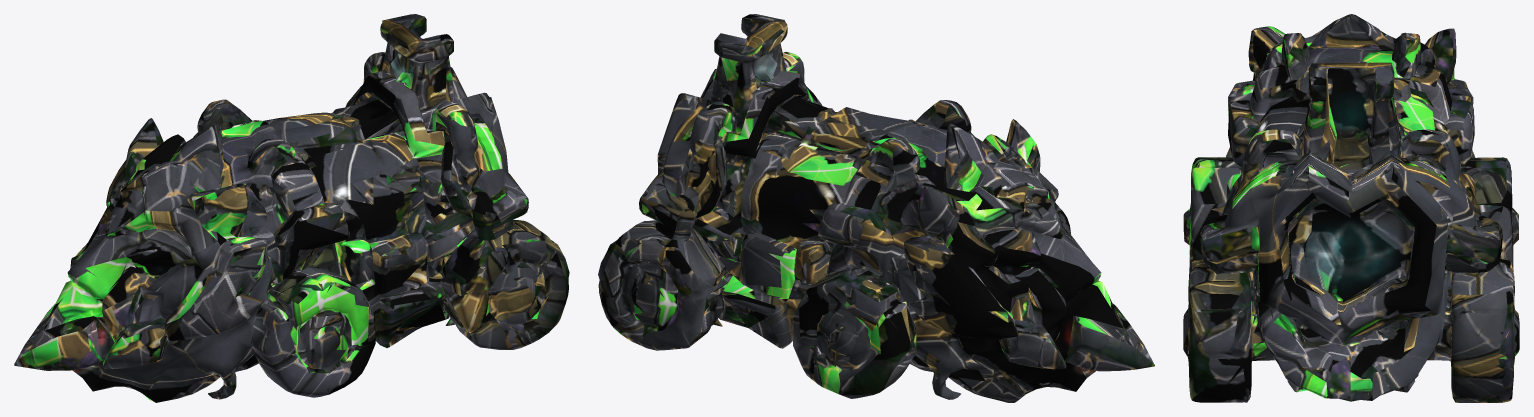
File: siege_meshy_beast_hybrid_blend_0725021332_prepared.fbx
The picture shows the model from 3 angles, left to right: view 1: azimuth 30°, elevation 25°; view 2: azimuth 150°, elevation 25°; view 3: azimuth 270°, elevation 25°; orthographic projection. The views are drawn at different scales.
Parts seen in each view (by area): view 1: Mesh1.0; view 2: Mesh1.0; view 3: Mesh1.0.
Part boxes in pixels (left/top/right/bottom): Mesh1.0: left=14, top=14, right=569, bottom=402; Mesh1.0: left=598, top=14, right=1154, bottom=402; Mesh1.0: left=1183, top=14, right=1519, bottom=402.
Bounding box in the file's own units: 90 × 50.58 × 46.52.
